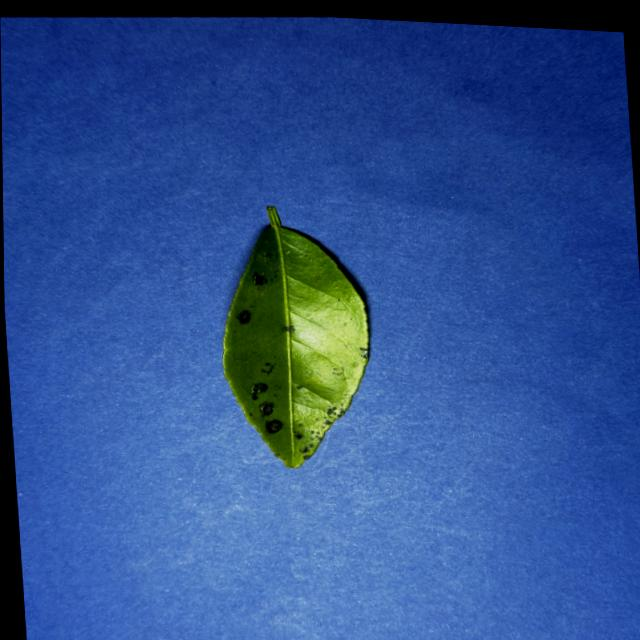sooty_mold: (222, 206, 368, 467)
